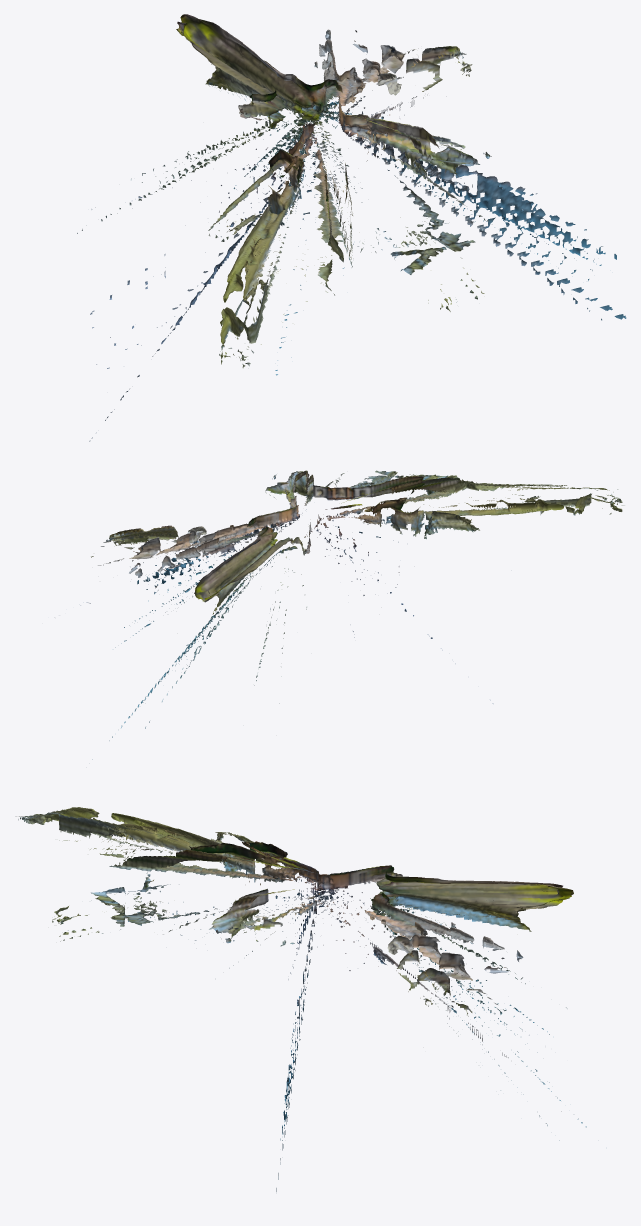
File: 0-world.glb
3 renders of one model, top to bottom at view 1: azimuth 30°, elevation 25°; view 2: azimuth 150°, elevation 25°; view 3: azimuth 270°, elevation 25°, orthographic. The views are drawn at different scales.
Visible parts, largest first — view 1: world; view 2: world; view 3: world.
Part boxes in pixels (box(x1,y1,x2,y2)): world: box(77, 14, 626, 441); world: box(54, 470, 624, 759); world: box(15, 807, 586, 1191).
Bounding box in the file's own units: 34.29 × 17.37 × 40.17.
